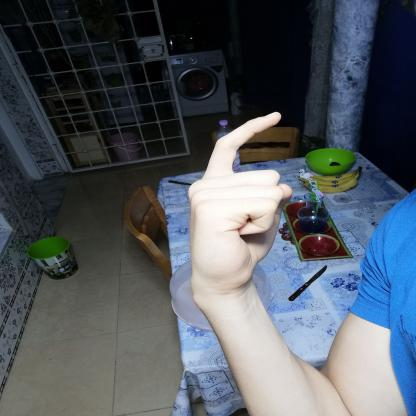RAA: (179, 102, 302, 307)
